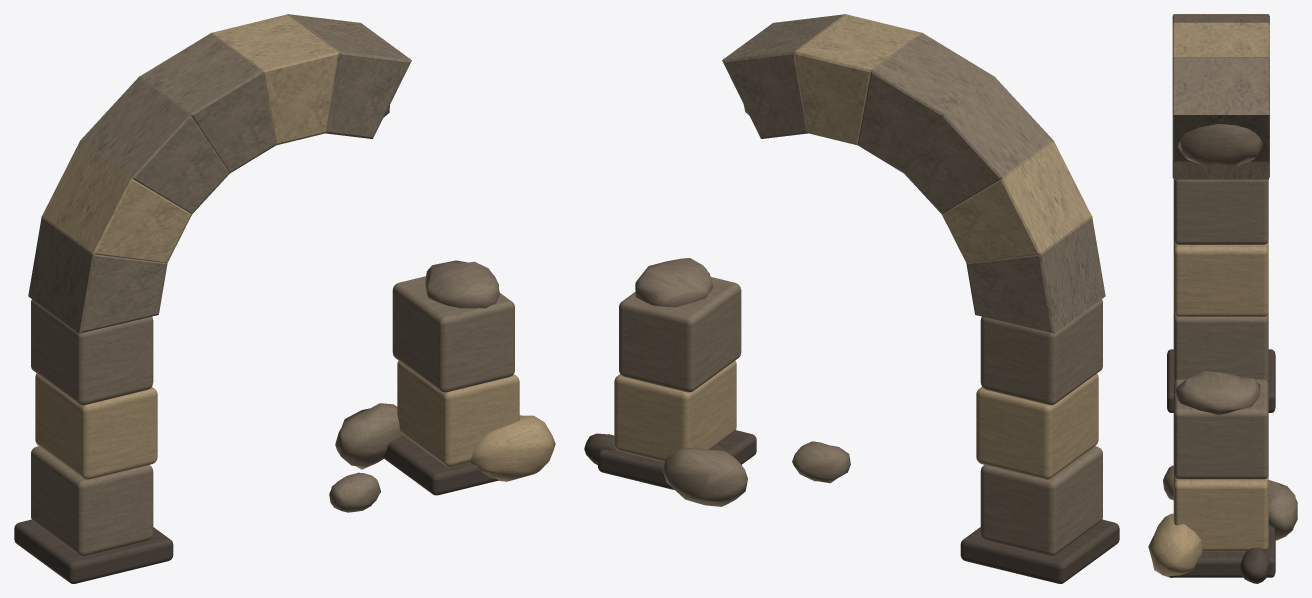
Rendered from sandstone_arch.glb.
3 renders of one model, left to right at view 1: azimuth 30°, elevation 25°; view 2: azimuth 150°, elevation 25°; view 3: azimuth 270°, elevation 25°, orthographic. The views are drawn at different scales.
Parts seen in each view (by area): view 1: sandstone_arch; view 2: sandstone_arch; view 3: sandstone_arch.
Part boxes in pixels (x1,y1,x2,y2): sandstone_arch: (14,14,555,583); sandstone_arch: (584,14,1119,583); sandstone_arch: (1148,14,1297,583).
Size of the model in its own units: 2.8 by 2.6 by 0.8.
Materials: 1 (1 with a texture image).
